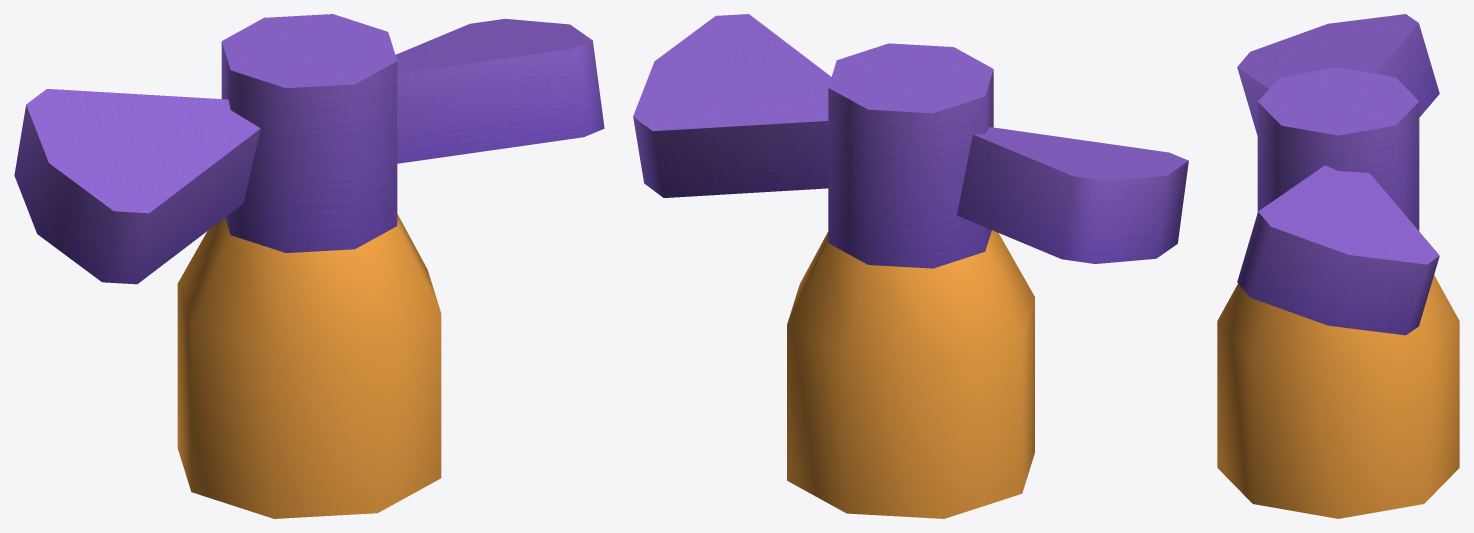
Rendered from fan-simple-two.glb.
3 views of the same model, side by side, from view 1: azimuth 30°, elevation 25°; view 2: azimuth 150°, elevation 25°; view 3: azimuth 270°, elevation 25° (orthographic). The views are drawn at different scales.
Parts seen in each view (by area): view 1: fan-simple-two, fan; view 2: fan-simple-two, fan; view 3: fan-simple-two, fan.
Boxes of the visible parts, left/top/right/bottom form: fan-simple-two: left=177, top=14, right=441, bottom=518; fan: left=14, top=18, right=604, bottom=284; fan-simple-two: left=787, top=43, right=1034, bottom=518; fan: left=633, top=14, right=1188, bottom=263; fan-simple-two: left=1217, top=67, right=1459, bottom=518; fan: left=1237, top=14, right=1439, bottom=335.
Size of the model in its own units: 0.6765 by 0.5 by 0.3.
Materials: 1 (1 with a texture image).
